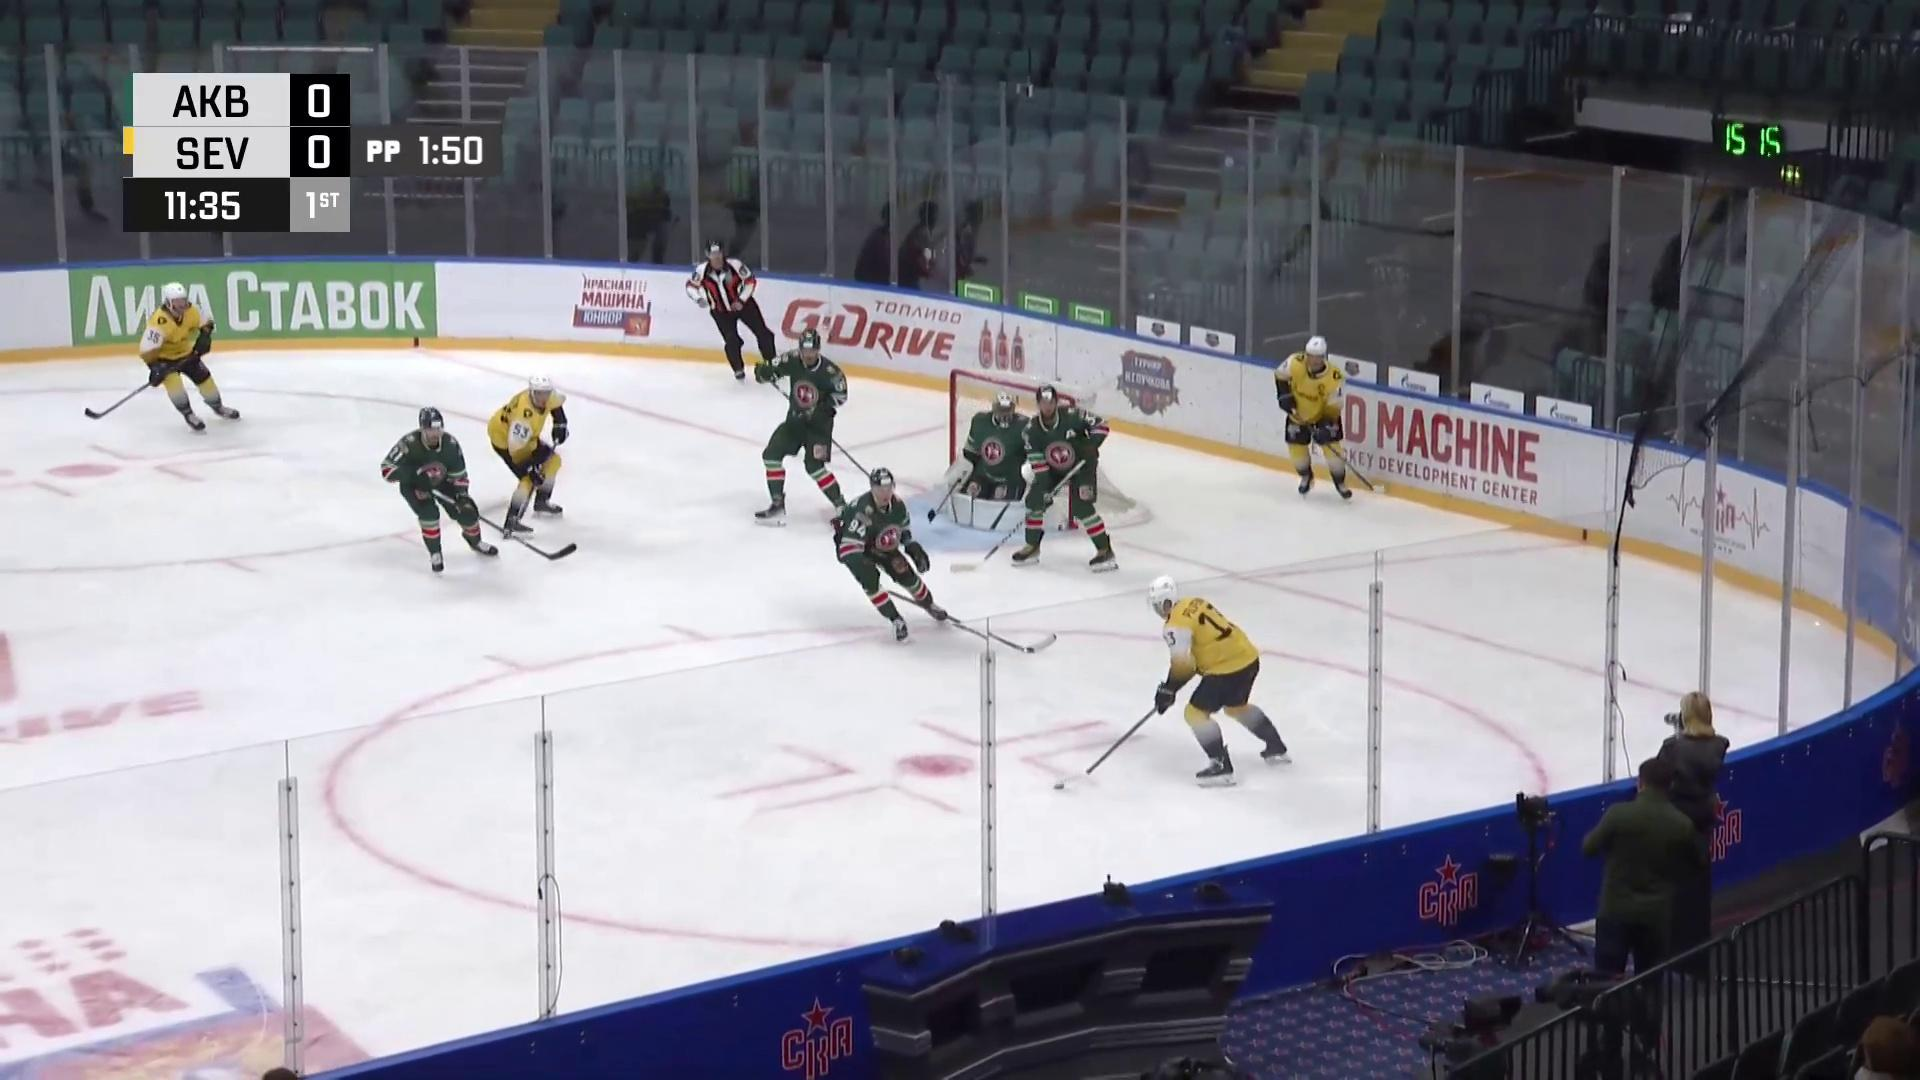ball: (1052, 783, 1064, 790)
